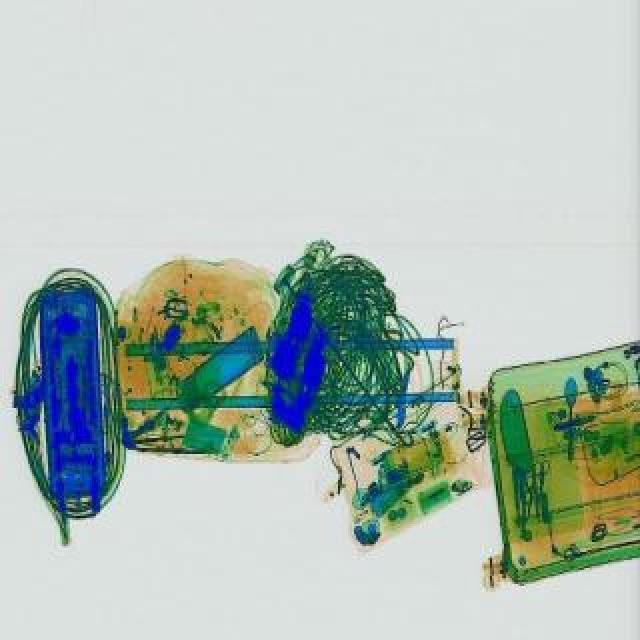pliers: (534, 458, 554, 524), (520, 474, 544, 522)
